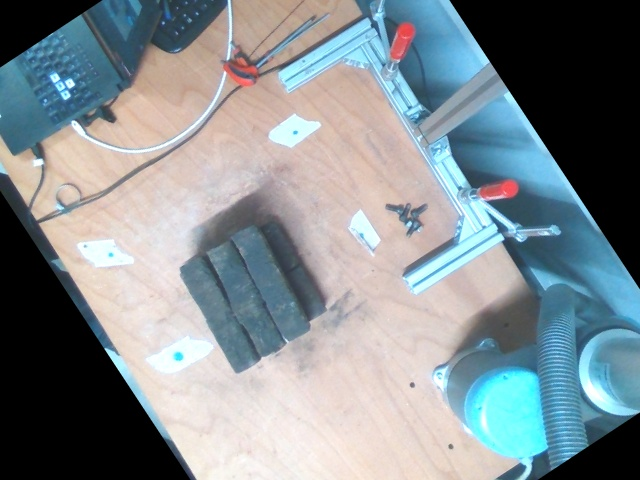brick-side: (233, 225, 309, 340), (206, 239, 282, 354), (179, 258, 255, 373)
